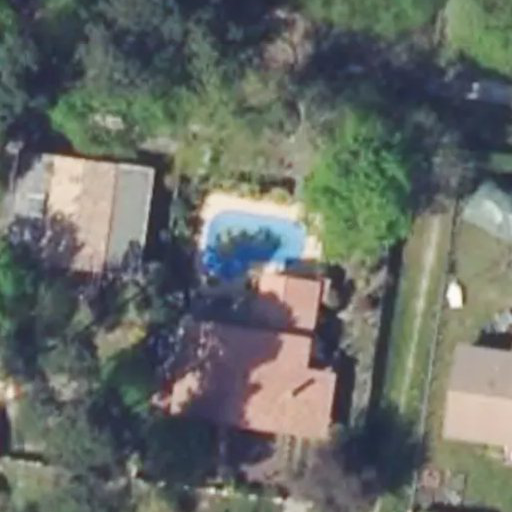pool: (205, 210, 306, 284)
